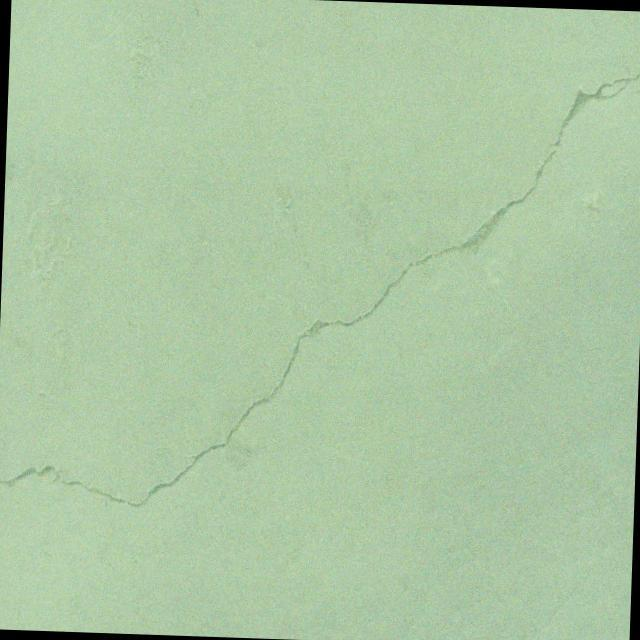crack: (0, 129, 557, 522), (547, 62, 640, 153), (626, 79, 640, 96)
